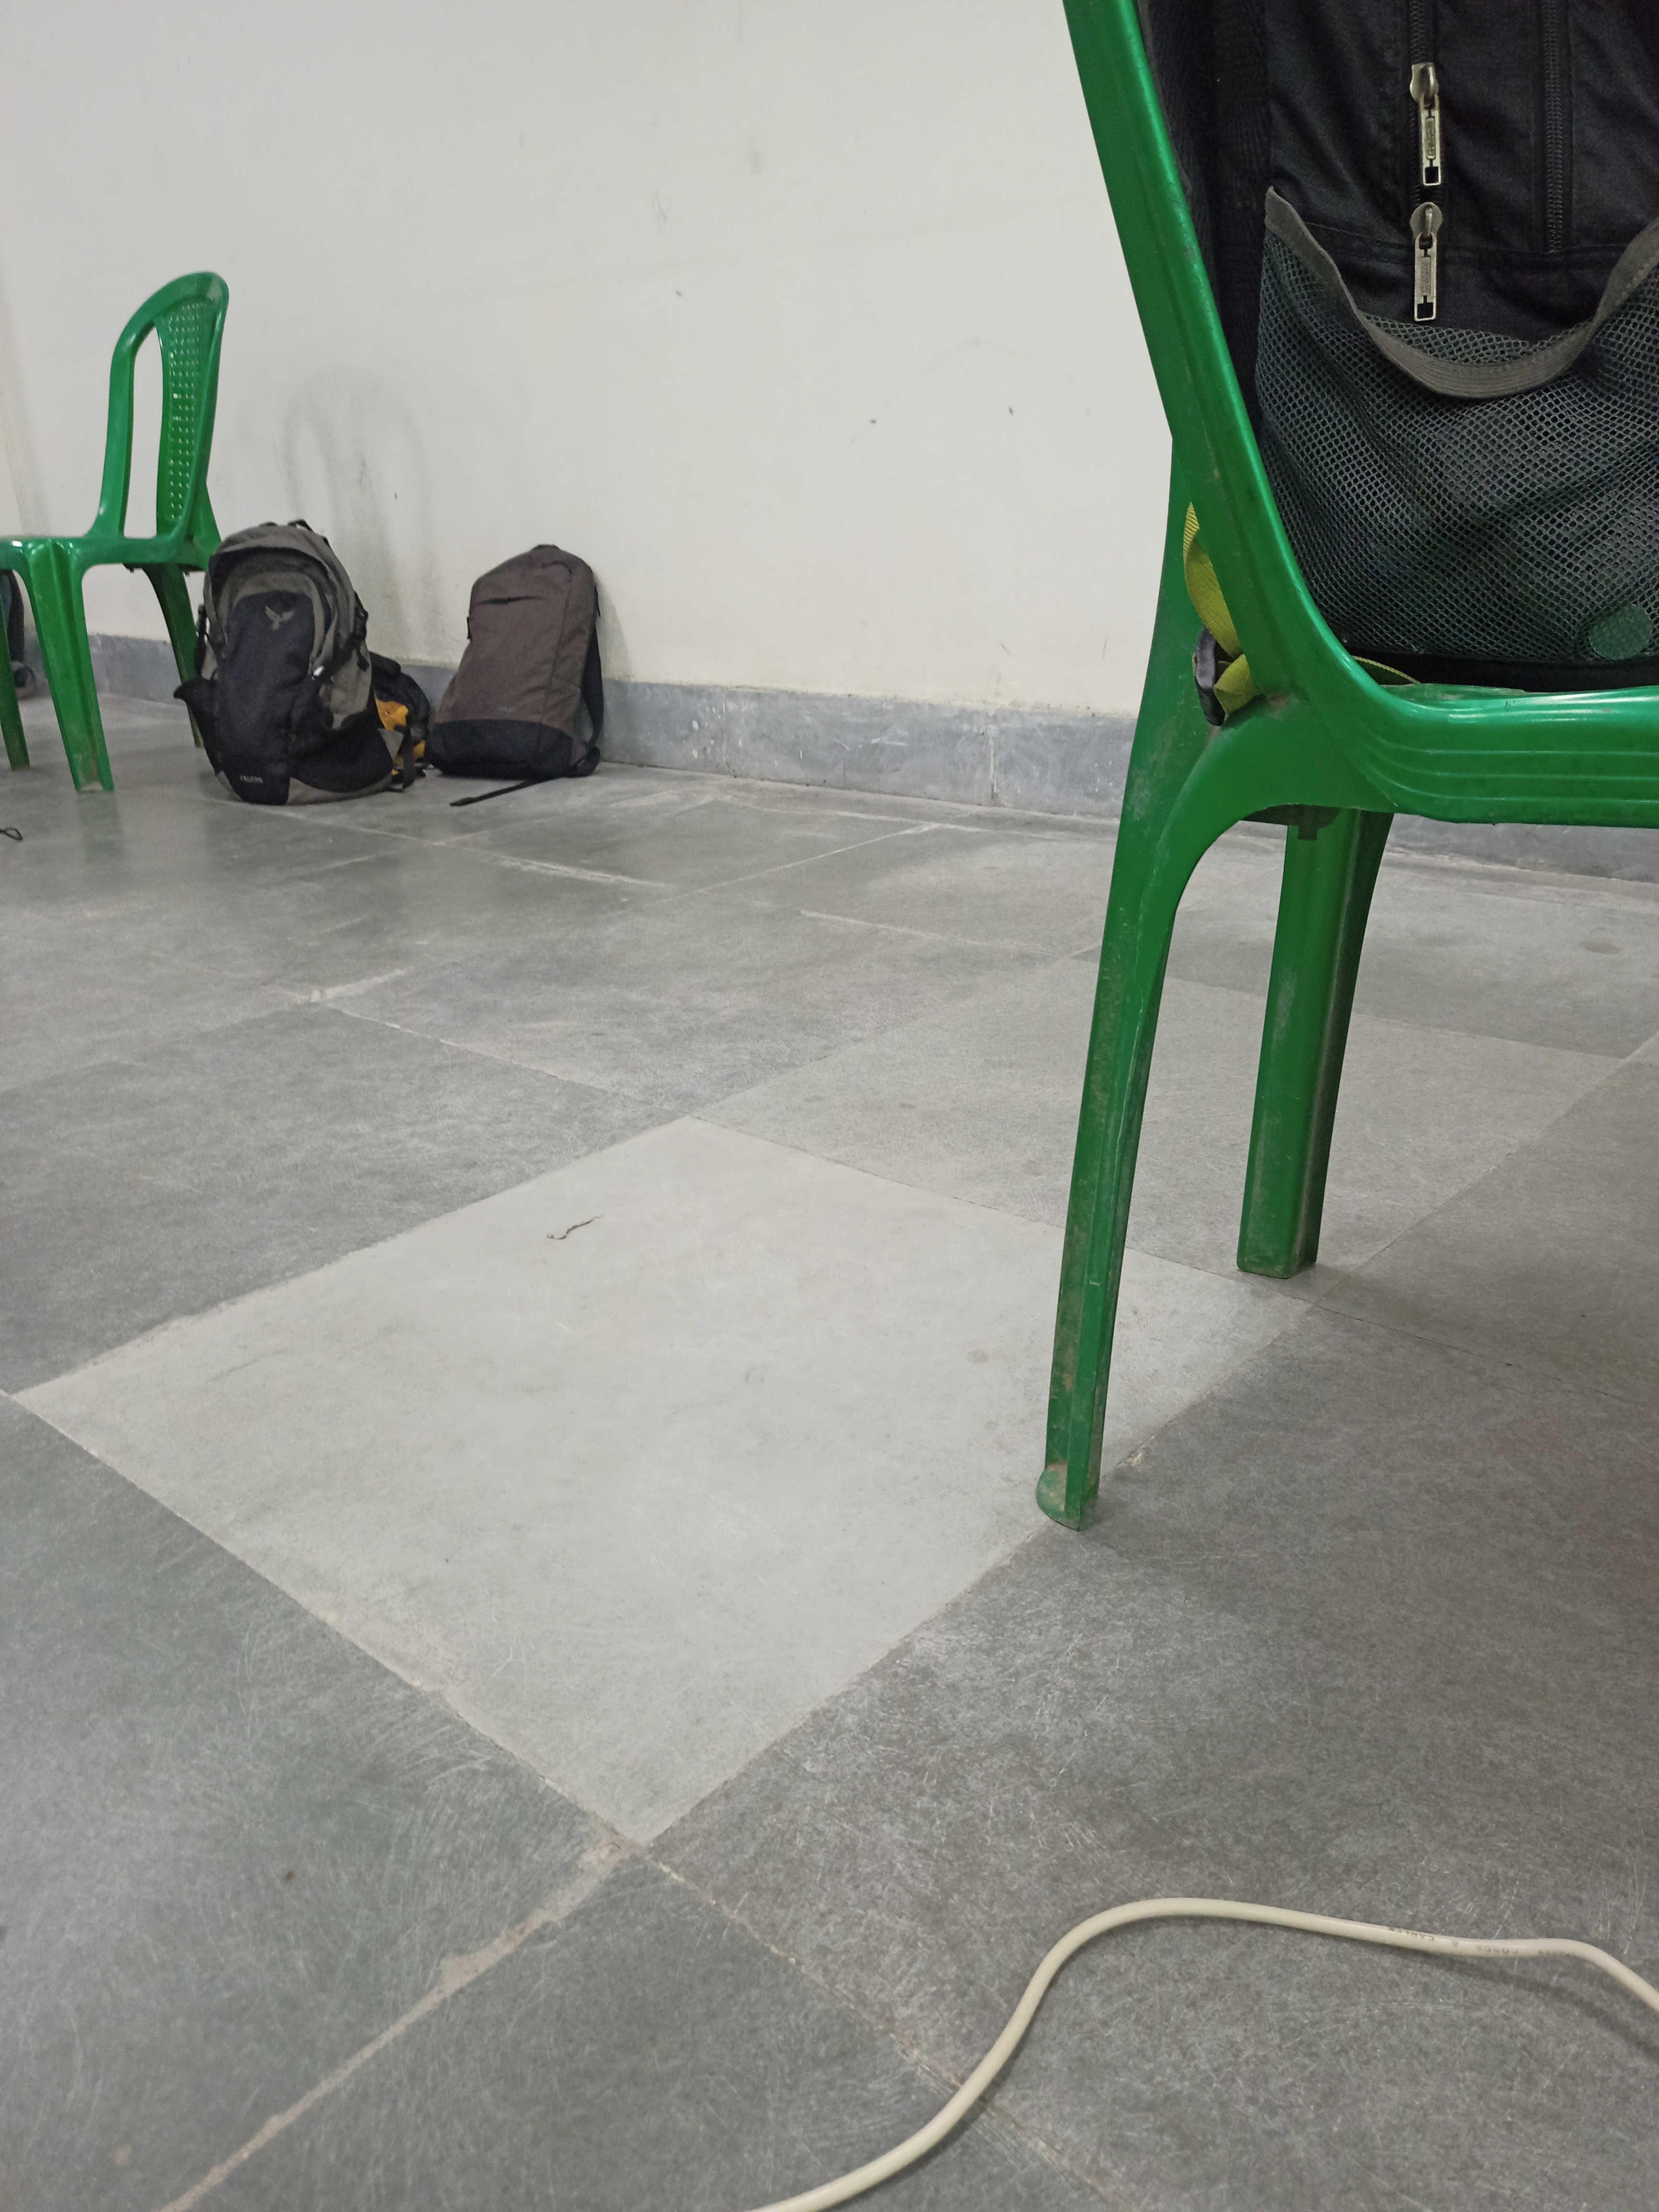Obstacle: (1039, 14, 1659, 1507)
Path: (0, 820, 1042, 2205)
